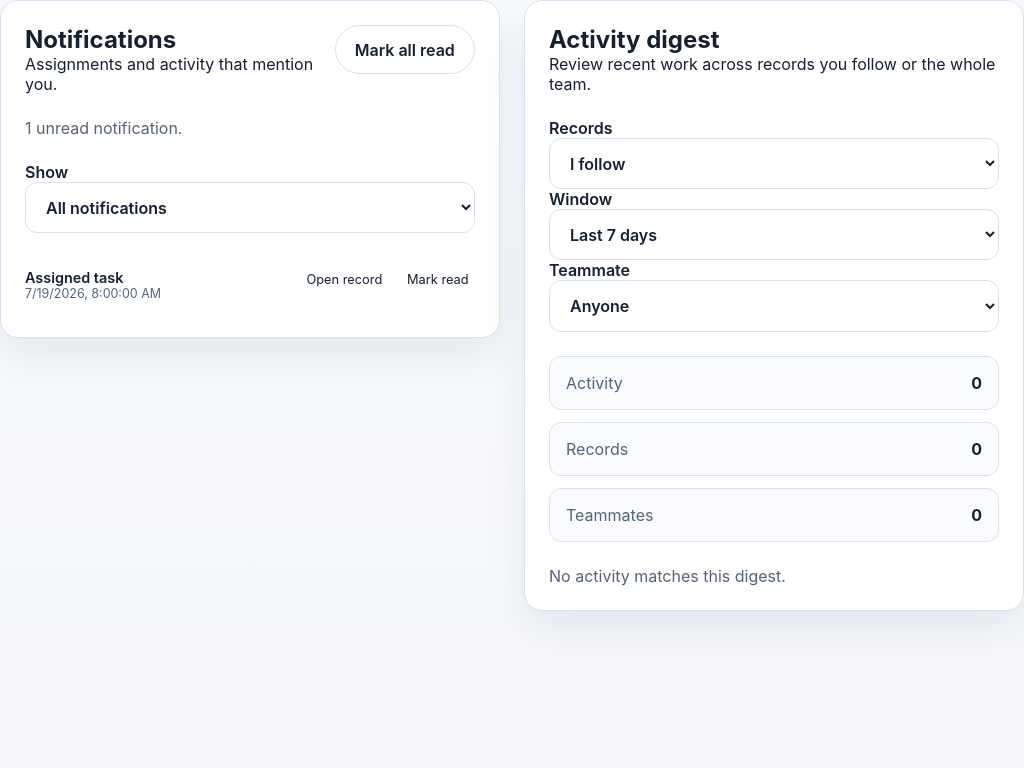
Test: notifications collaboration route › keeps a failed acknowledgement visible and offers a retryable error
The width and height of the screenshot is (1024, 768).
Step 1. Click the button with aria-label "Mark as read" → (438, 280), box [401,269,475,291]
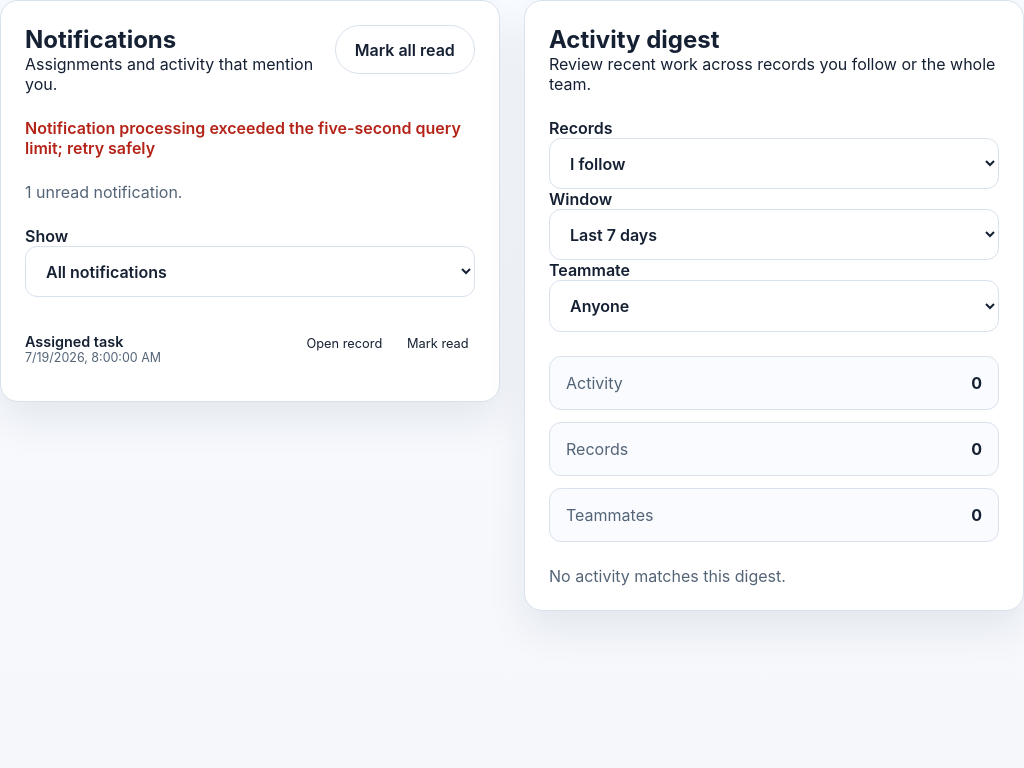
Expected: the text "1 unread notification." is shown, [25,182,182,202]
Expected: the text "Notification processing exceeded the five-second query limit" is shown, [25,118,461,158]
